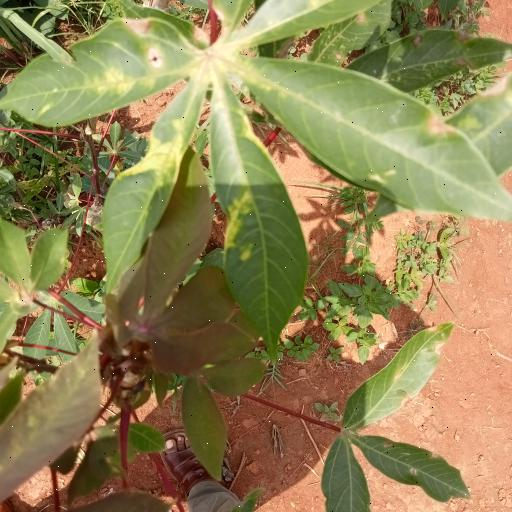Cassava_Brown_Leaf_Spot: (5, 1, 512, 327)
